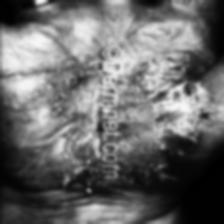Non-Cancerous Skin Condition: (121, 48, 217, 160), (24, 66, 86, 214)
